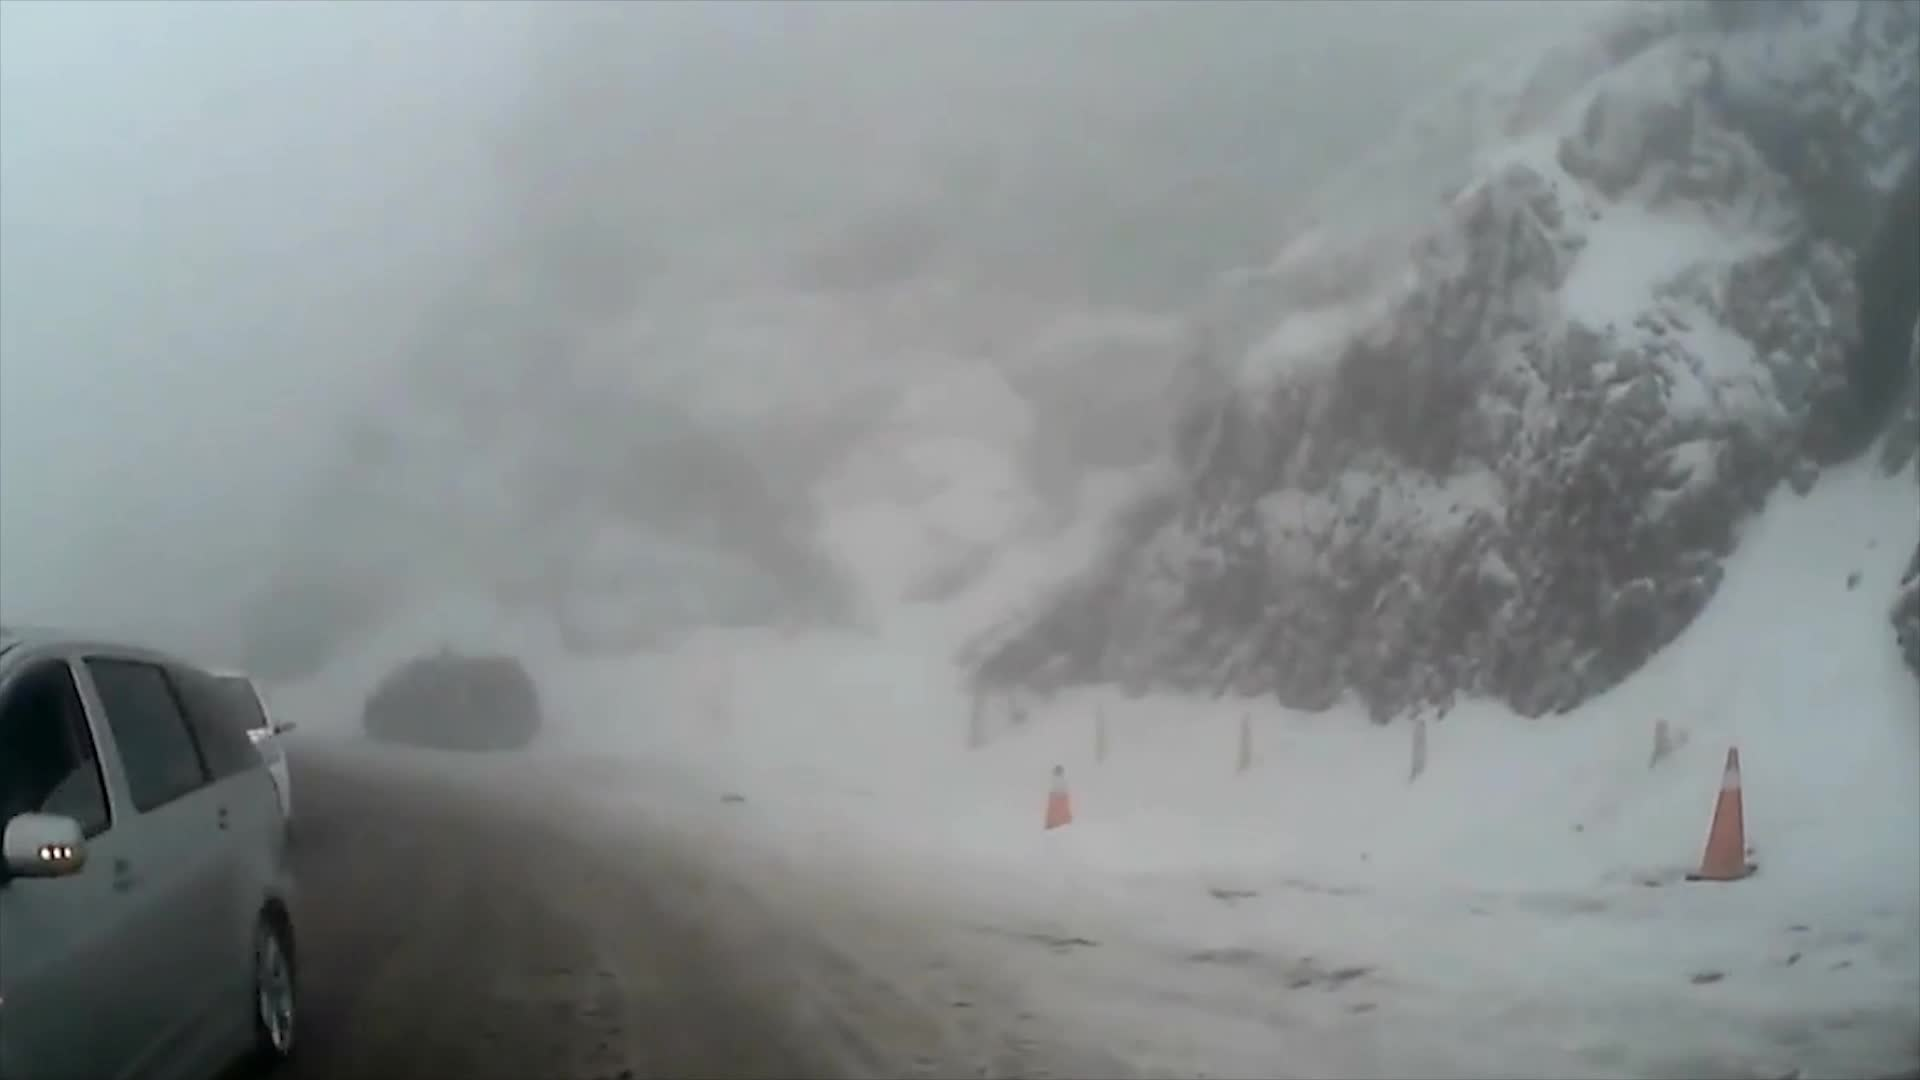vehicle: (0, 632, 306, 1080), (357, 651, 539, 753)
